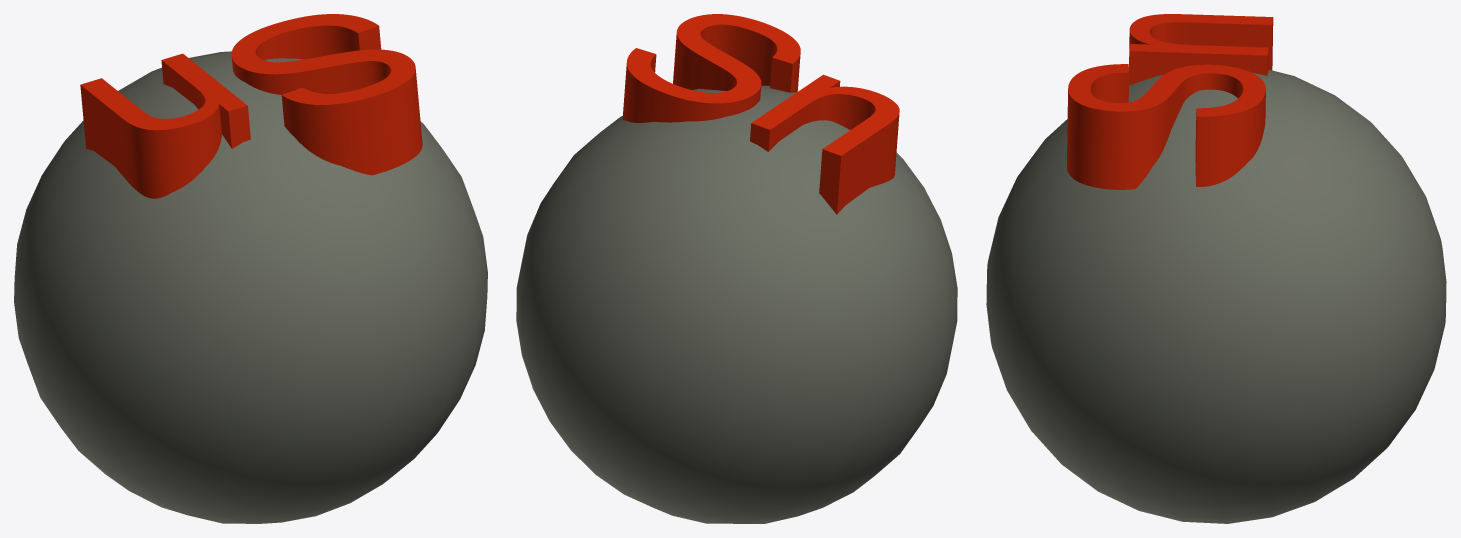
3 views of the same model, side by side, from view 1: azimuth 30°, elevation 25°; view 2: azimuth 150°, elevation 25°; view 3: azimuth 270°, elevation 25° (orthographic). The views are drawn at different scales.
Visible parts, largest first — view 1: Sn; view 2: Sn; view 3: Sn.
Boxes of the visible parts, x1=… form: Sn: x1=14, y1=14, x2=487, y2=523; Sn: x1=516, y1=14, x2=957, y2=523; Sn: x1=986, y1=14, x2=1446, y2=523.
Bounding box in the file's own units: 38.63 × 40.87 × 38.6.
